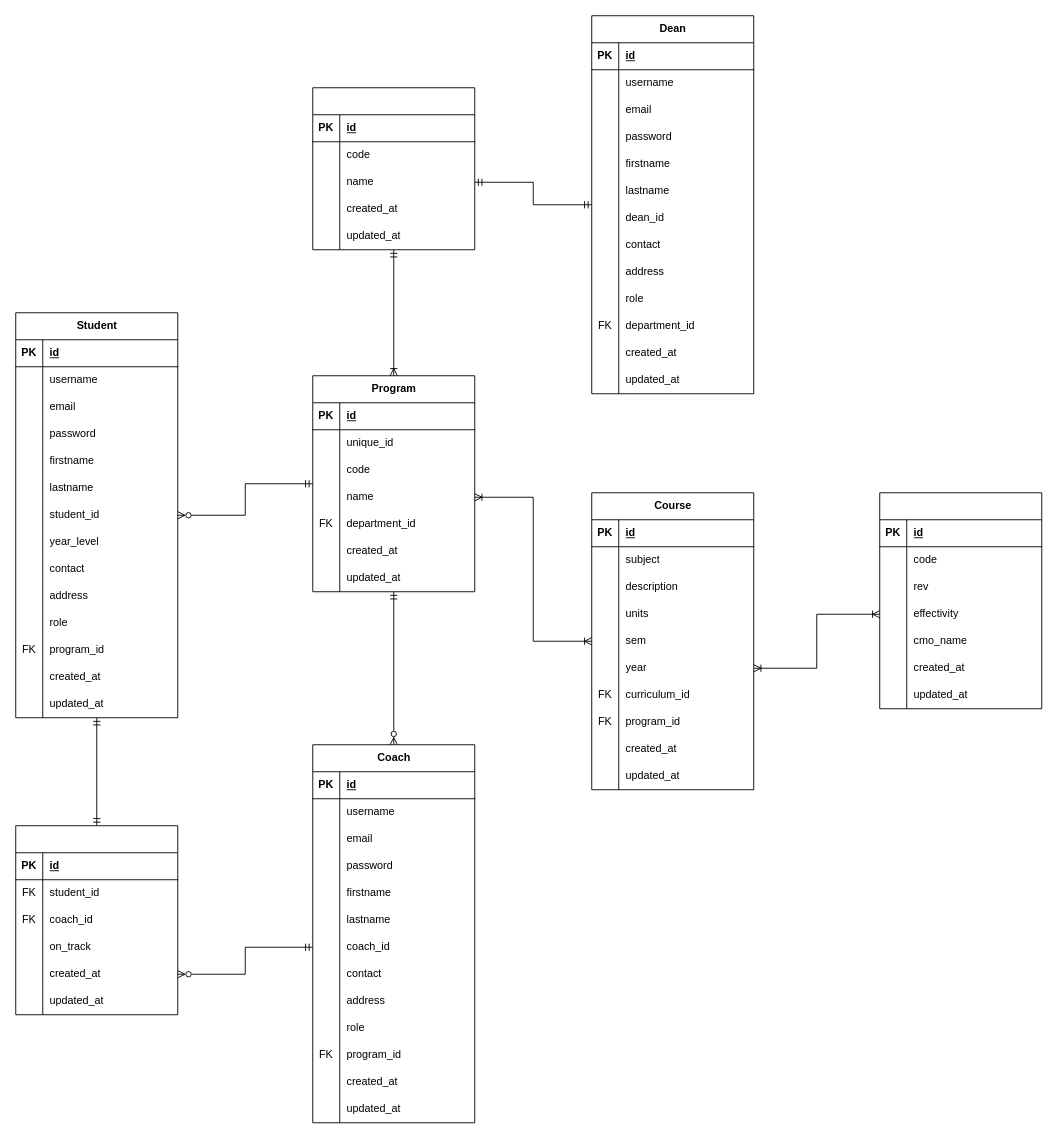
This 1058x1139 diagram has some shape labels left out. The shapes that lost their labels are listed below. From the top down, each one's box as (x1, y1, x2, y2) in pixels, then its label:
(312, 87, 475, 250): Department
(879, 492, 1042, 709): Curriculum
(15, 825, 178, 1015): Assignment
